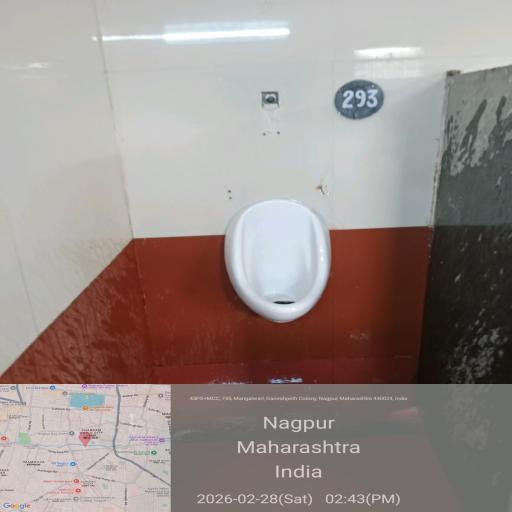clean_floor: (1, 7, 512, 233), (7, 238, 244, 388), (335, 240, 413, 377), (252, 314, 330, 380)
clean_urinal: (228, 204, 325, 310)
partial_dirty_floor: (430, 236, 512, 379)
